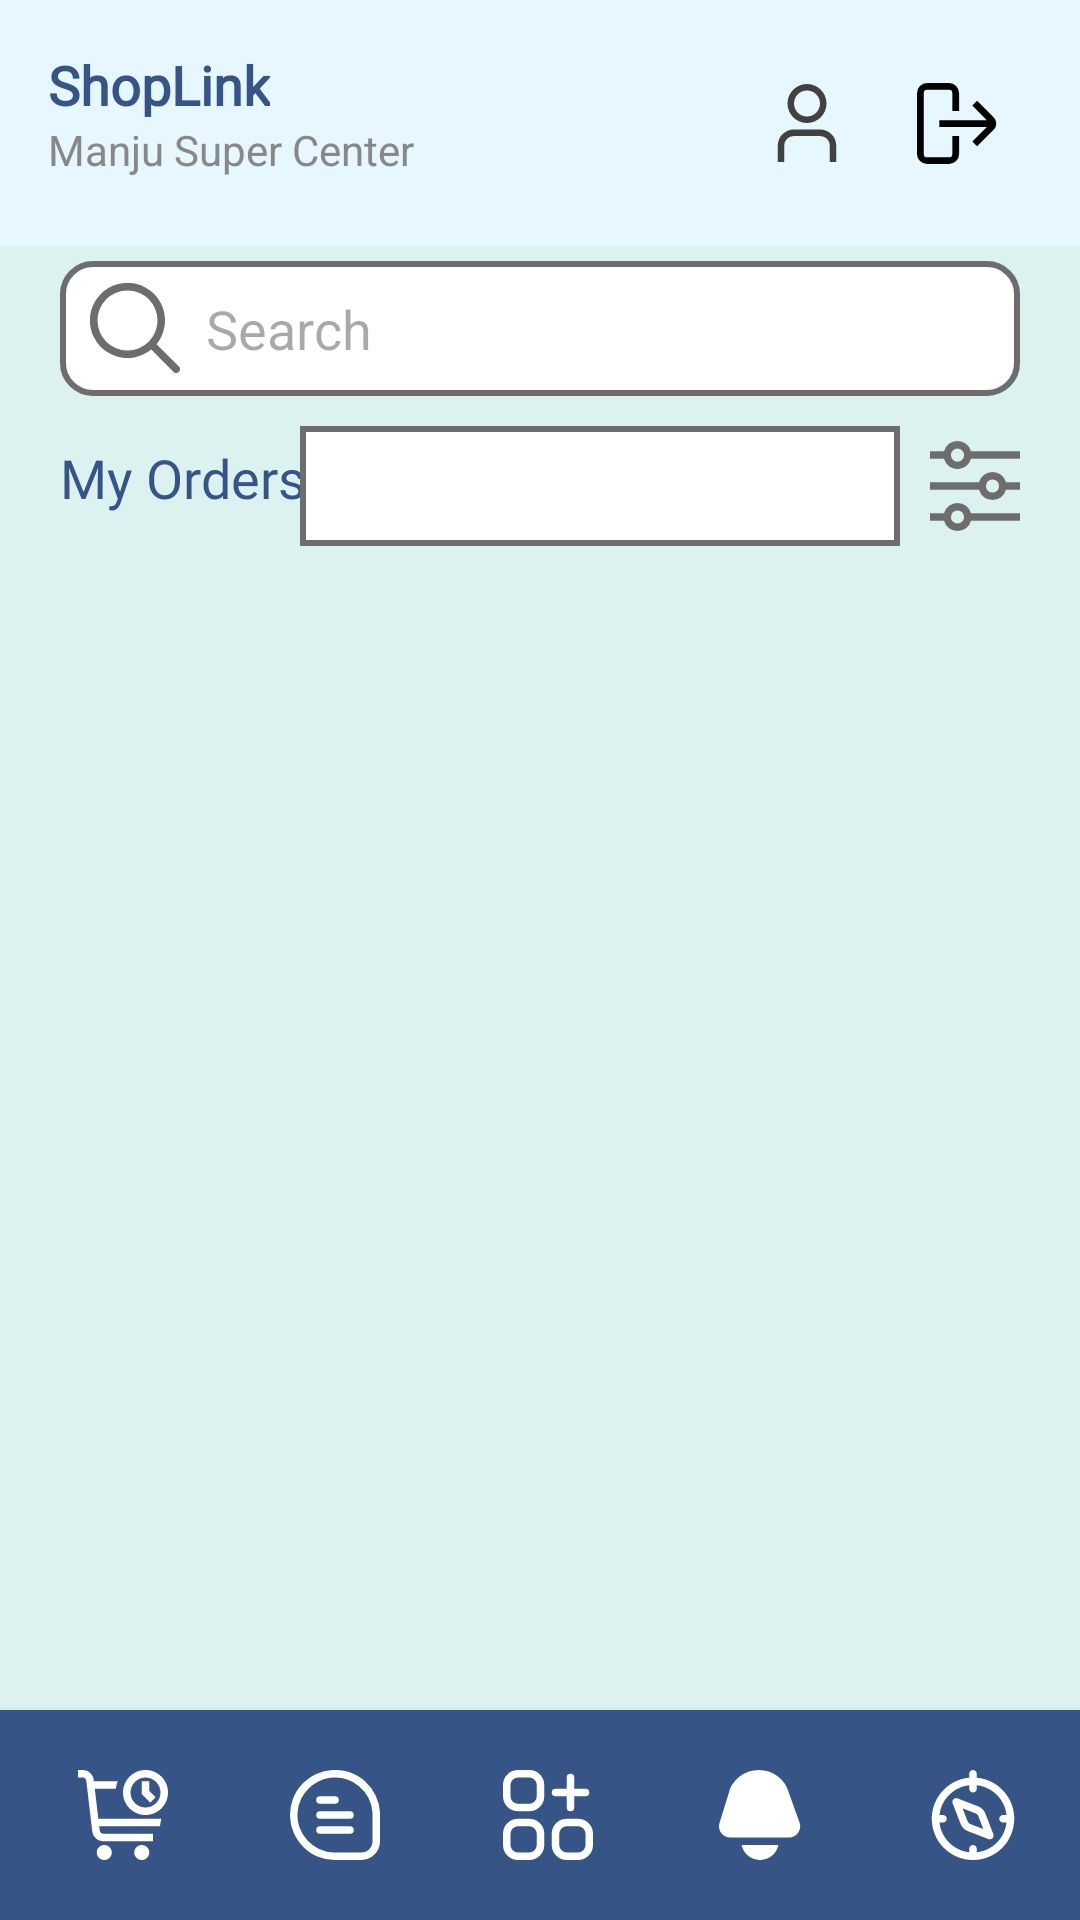

Locate icon controls on the screen. Image size 1080×1920, boxes as {"x1": x1, "y1": y1, "x2": x2, "y2": y2}.
filtericon: {"x1": 930, "y1": 441, "x2": 1020, "y2": 531}
Image button to explore new products: {"x1": 931, "y1": 1770, "x2": 1015, "y2": 1860}
Image button to main order making menu: {"x1": 503, "y1": 1770, "x2": 593, "y2": 1860}
Image button to Message: {"x1": 290, "y1": 1770, "x2": 380, "y2": 1860}
Image button to orders: {"x1": 78, "y1": 1770, "x2": 168, "y2": 1860}
Notifications: {"x1": 719, "y1": 1770, "x2": 801, "y2": 1860}
usericon: {"x1": 777, "y1": 84, "x2": 837, "y2": 162}
